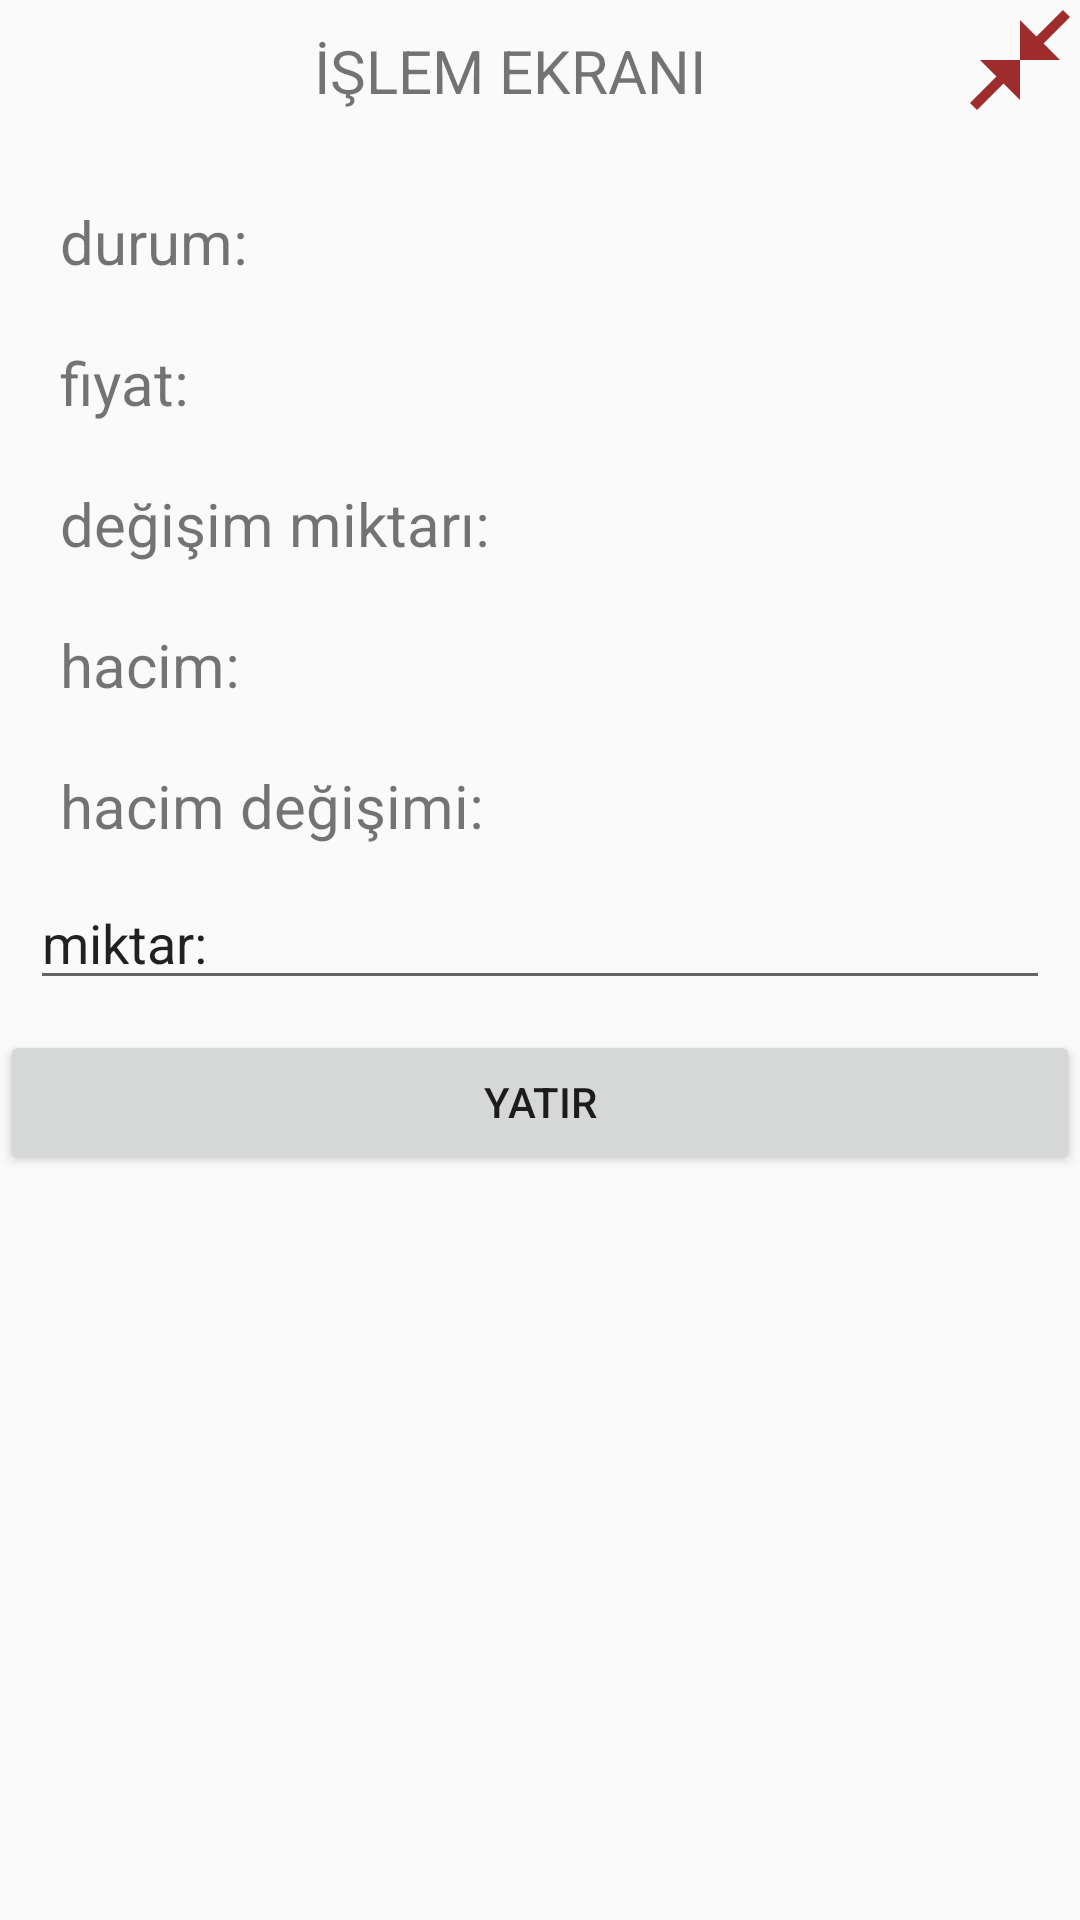

Icon click points for this 1080w x 1920h phone screenshot, format [x,y]:
close fullscreen: [1020,60]
